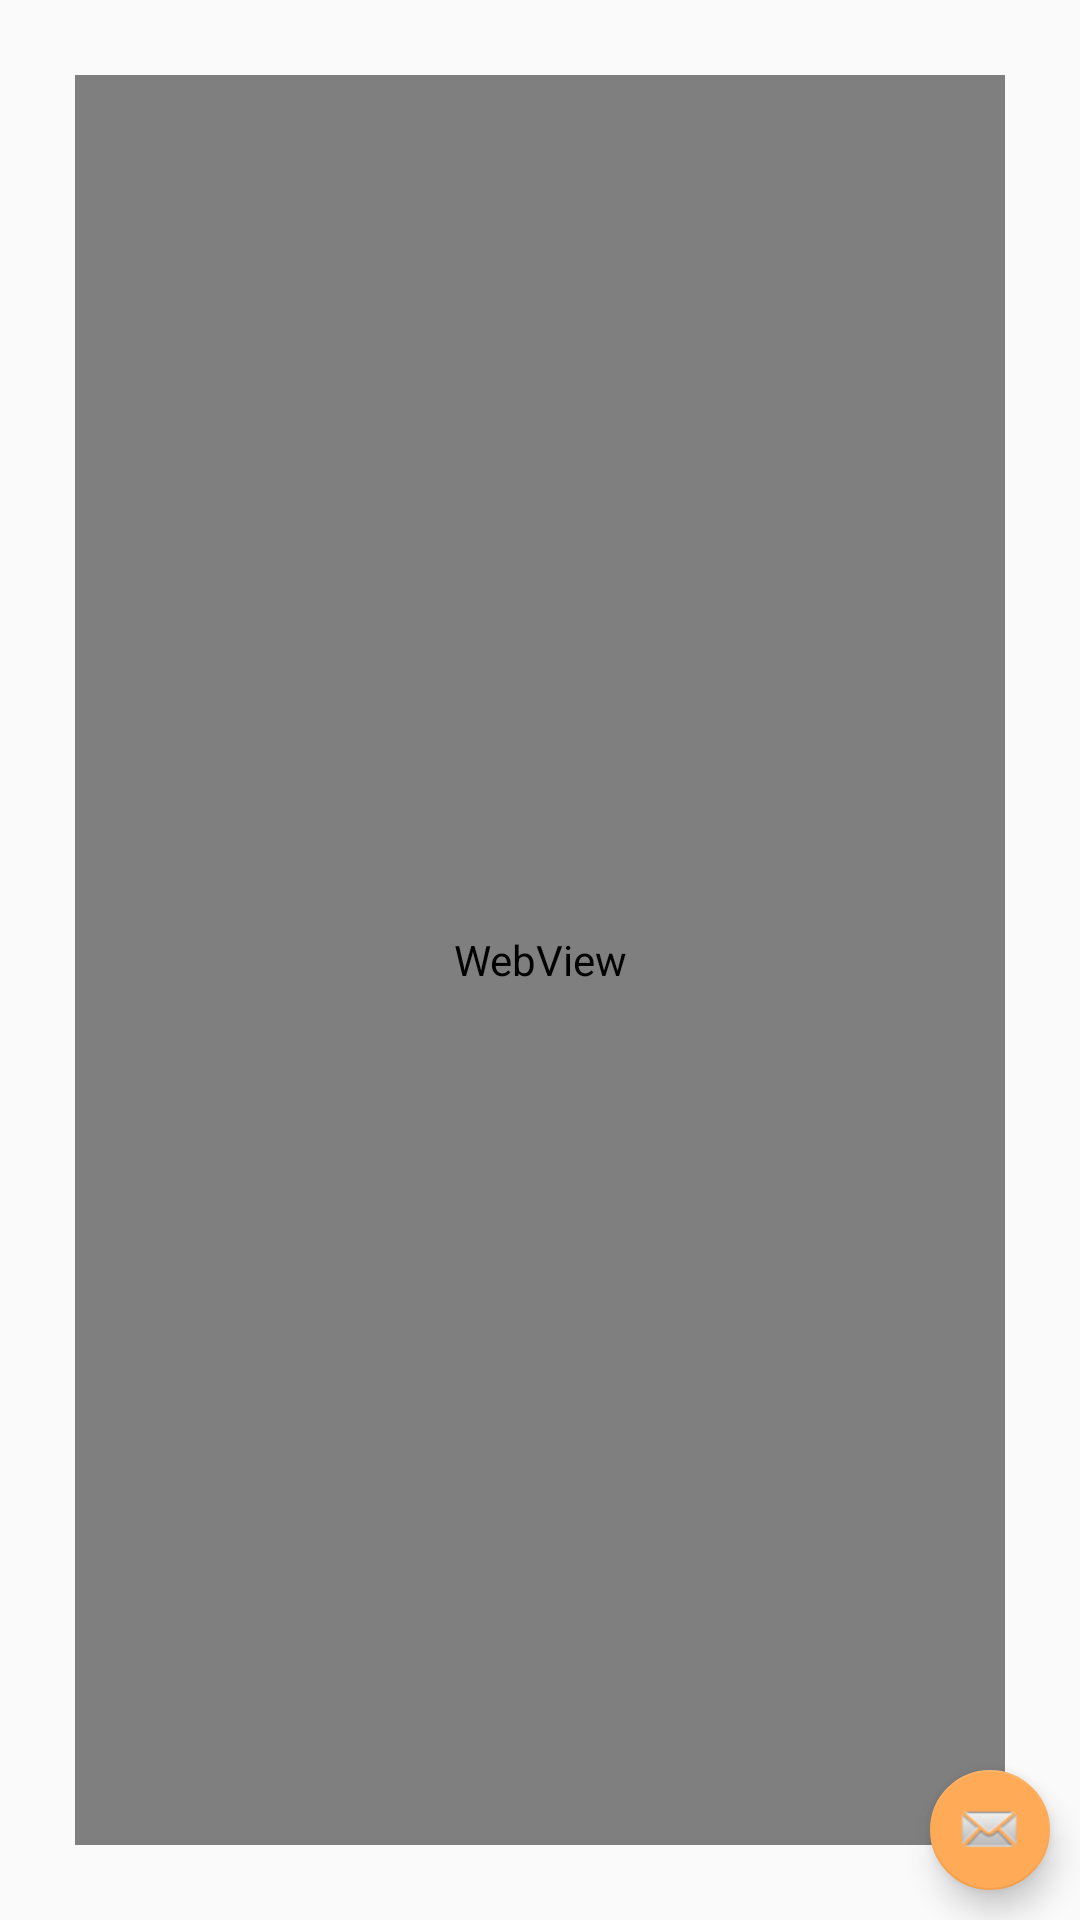

Icons on this 1080×1920 Android screen, each with the point to tap as [x,y]:
sym action email: [990,1830]
